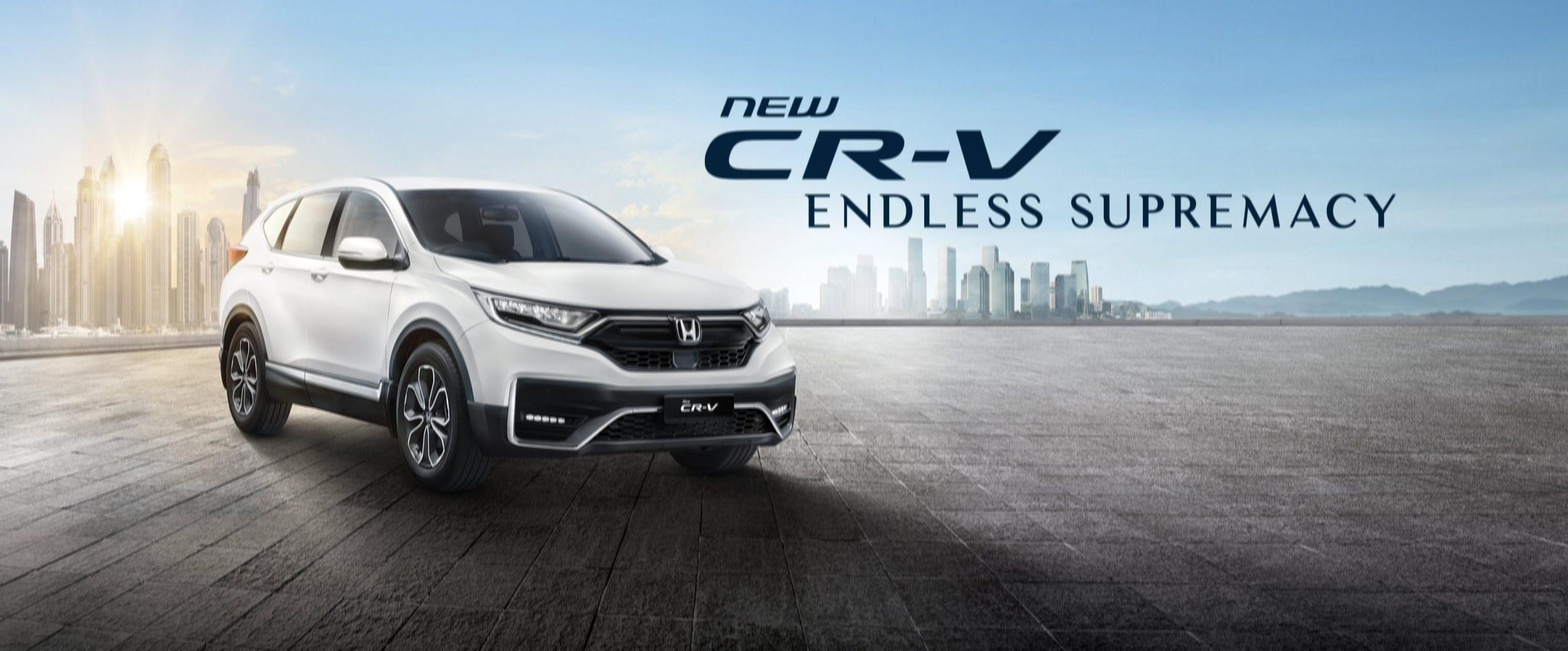Car hood: (434, 254, 764, 316)
Driver-s door - -F-R-: (304, 174, 402, 425)
Fender - -F-R-: (375, 244, 488, 419)
Fender - -R-R-: (219, 190, 272, 366)
Front bumper: (456, 320, 800, 457)
Headlight - -L-: (738, 297, 772, 340)
Headlight - -R-: (468, 281, 610, 341)
Passenger-s door - -R-R-: (251, 167, 343, 423)
Side bumper - -R-: (244, 349, 404, 433)
Side mirror - -R-: (332, 233, 409, 279)
